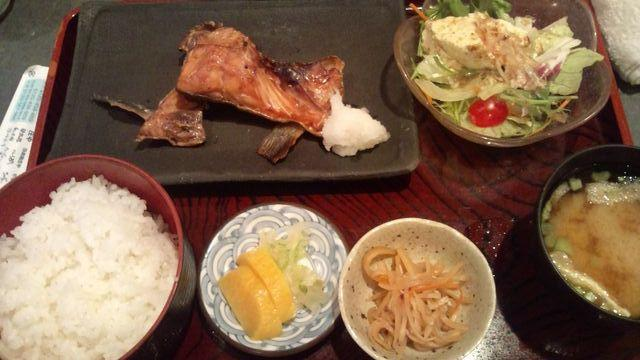plate: (0, 154, 196, 359)
rice: (0, 176, 178, 359)
